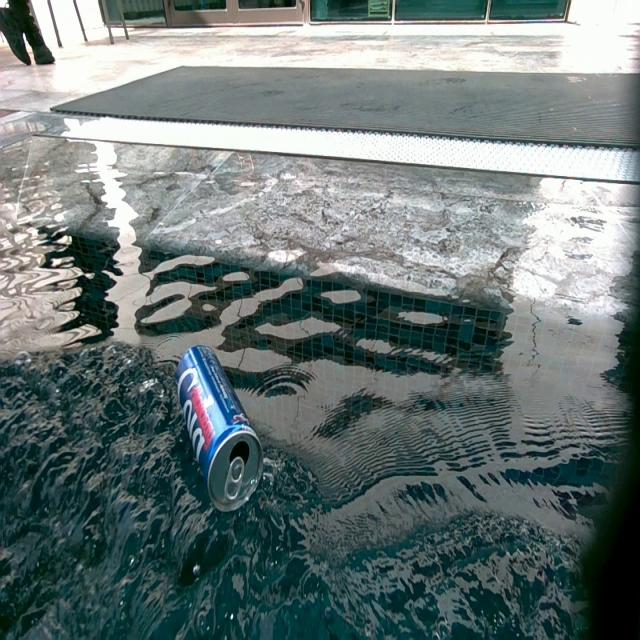Cans: (176, 342, 266, 506)
